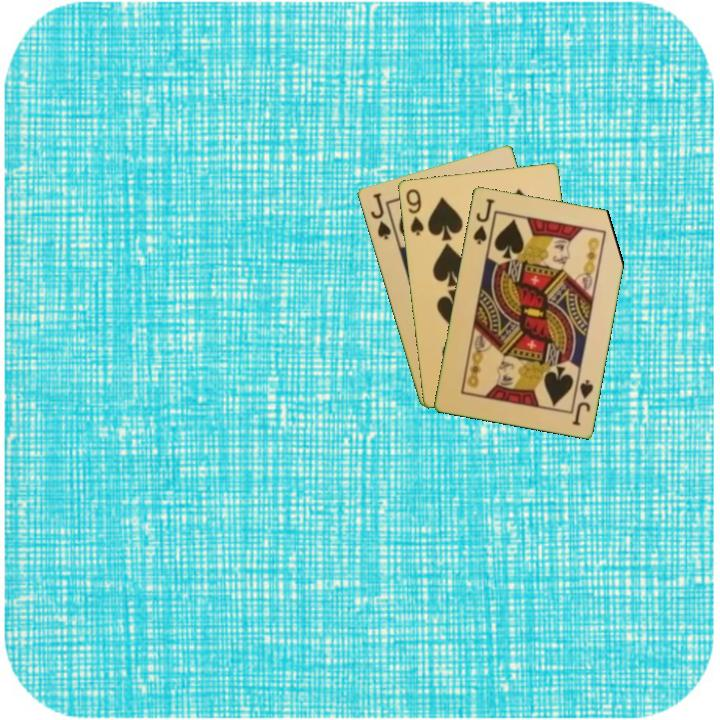9s: (402, 185, 426, 238)
Js: (367, 189, 394, 243), (469, 195, 497, 247), (568, 376, 596, 428)
